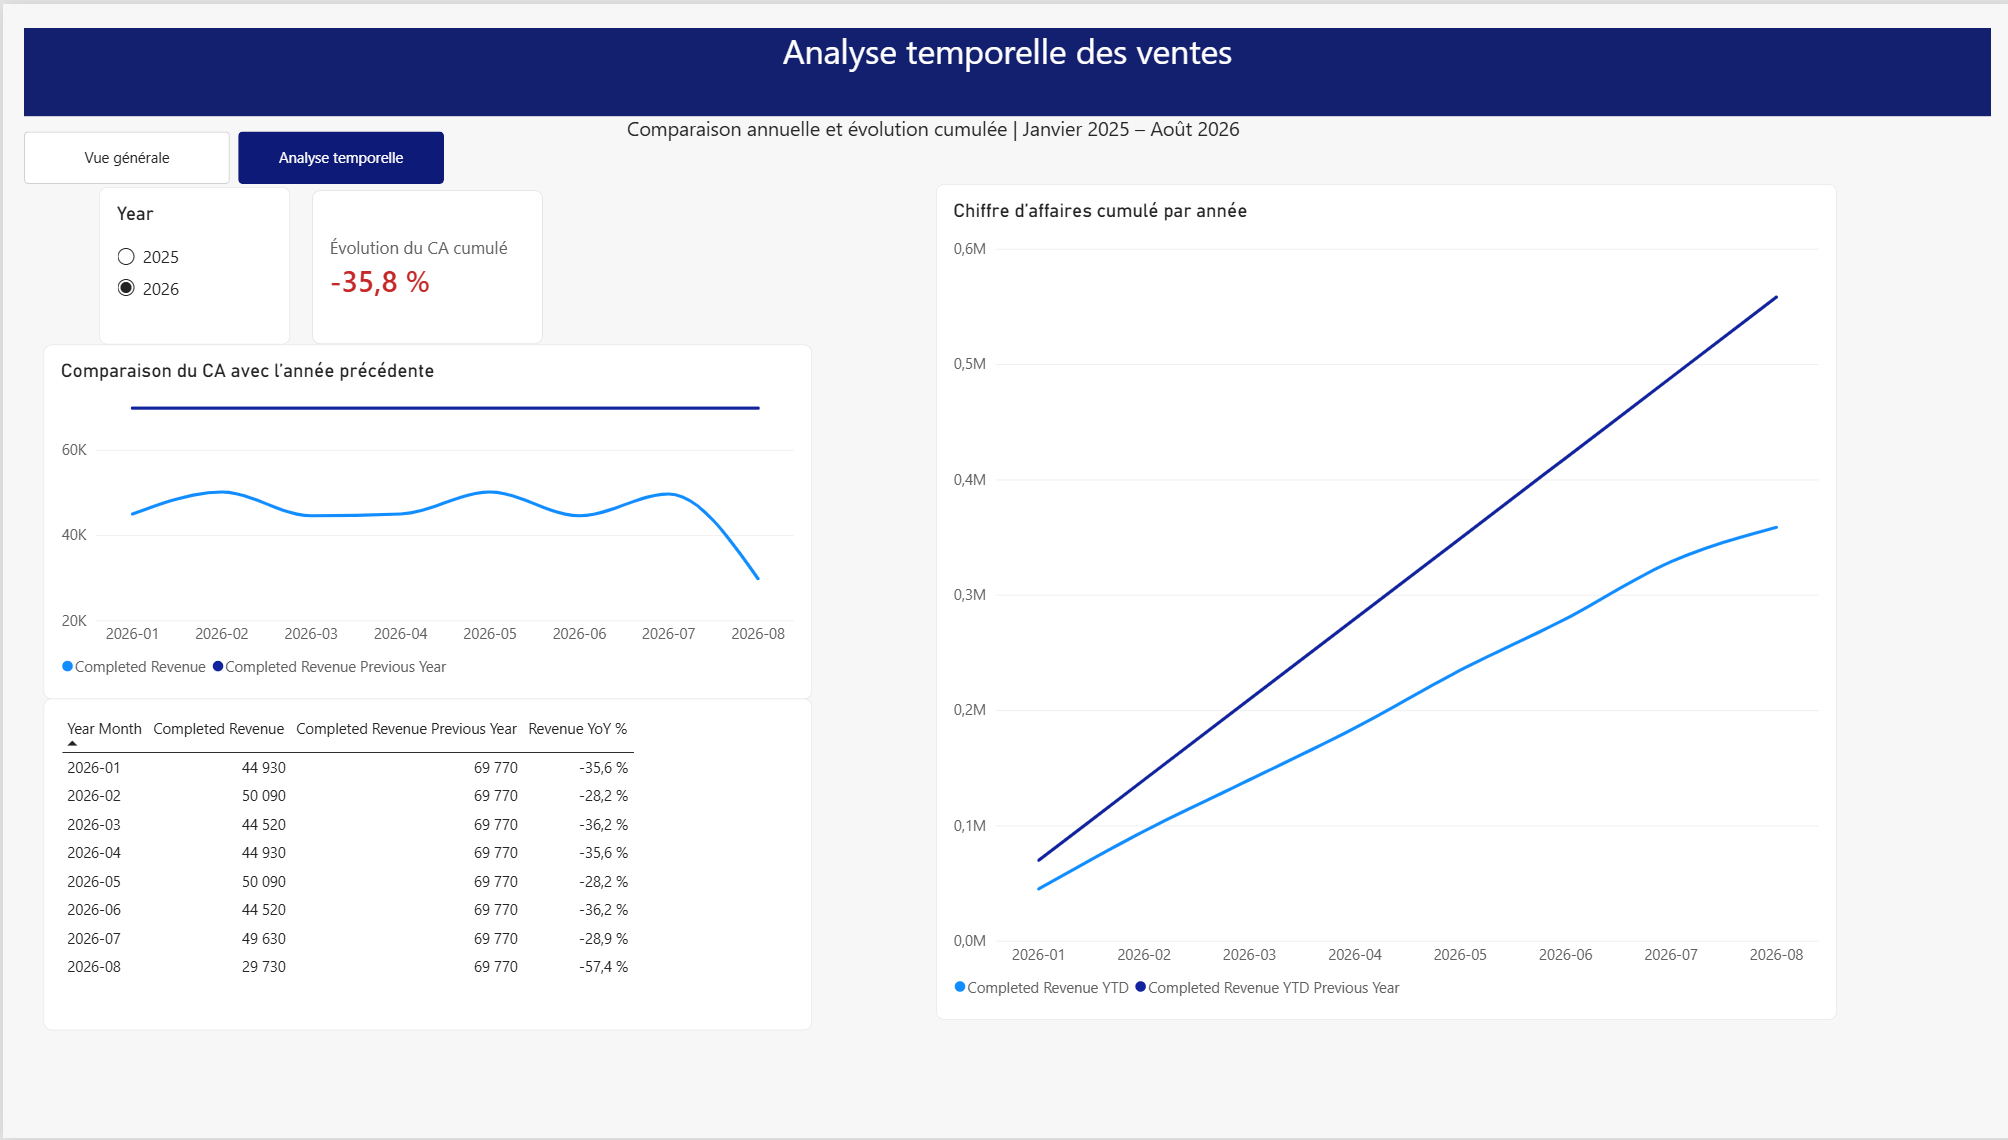

The page's visual inventory and layout, read from the dashboard file:
{"tool":"powerbi","page":{"name":"Analyse temporelle","canvas":[1920,1080],"ordinal":1},"visuals":[{"type":"lineChart","title":"Comparaison du CA avec l’année précédente","fields":{"Category":["Calendar.Year Month"],"Y":["order_items.Completed Revenue","order_items.Completed Revenue Previous Year"]},"box":[38,324,732,338],"z":0},{"type":"tableEx","fields":{"Values":["Calendar.Year Month","order_items.Completed Revenue","order_items.Completed Revenue Previous Year","order_items.Revenue YoY %"]},"box":[38,662,732,316],"z":1},{"type":"lineChart","title":"Chiffre d’affaires cumulé par année","fields":{"Category":["Calendar.Year Month"],"Y":["order_items.Completed Revenue YTD","order_items.Completed Revenue YTD Previous Year"]},"box":[888,172,858,796],"z":2},{"type":"cardVisual","fields":{"Data":["order_items.Revenue YTD YoY %"]},"box":[294.3,177.1,220,147.1],"z":3},{"type":"listSlicer","fields":{"Values":["Calendar.Year"]},"box":[92,174,182,150],"z":4},{"type":"textbox","box":[20.4,22.4,1873.5,83.7],"z":5},{"type":"textbox","box":[594,106,1122,42],"z":6},{"type":"pageNavigator","box":[20,121.4,400,50],"z":7}]}

Visuals, with their boxes in screenshot pixels (x1, y1, x2, y2), scaled from the page's 1920x1080 canvas onto the 2008x1140 screenshot:
"Comparaison du CA avec l’année précédente" lineChart: x1=40 y1=342 x2=805 y2=699
tableEx - Calendar.Year Month x order_items.Completed Revenue: x1=40 y1=699 x2=805 y2=1032
"Chiffre d’affaires cumulé par année" lineChart: x1=929 y1=182 x2=1826 y2=1022
cardVisual - order_items.Revenue YTD YoY %: x1=308 y1=187 x2=538 y2=342
listSlicer - Calendar.Year: x1=96 y1=184 x2=287 y2=342
textbox: x1=21 y1=24 x2=1981 y2=112
textbox: x1=621 y1=112 x2=1795 y2=156
pageNavigator: x1=21 y1=128 x2=439 y2=181
